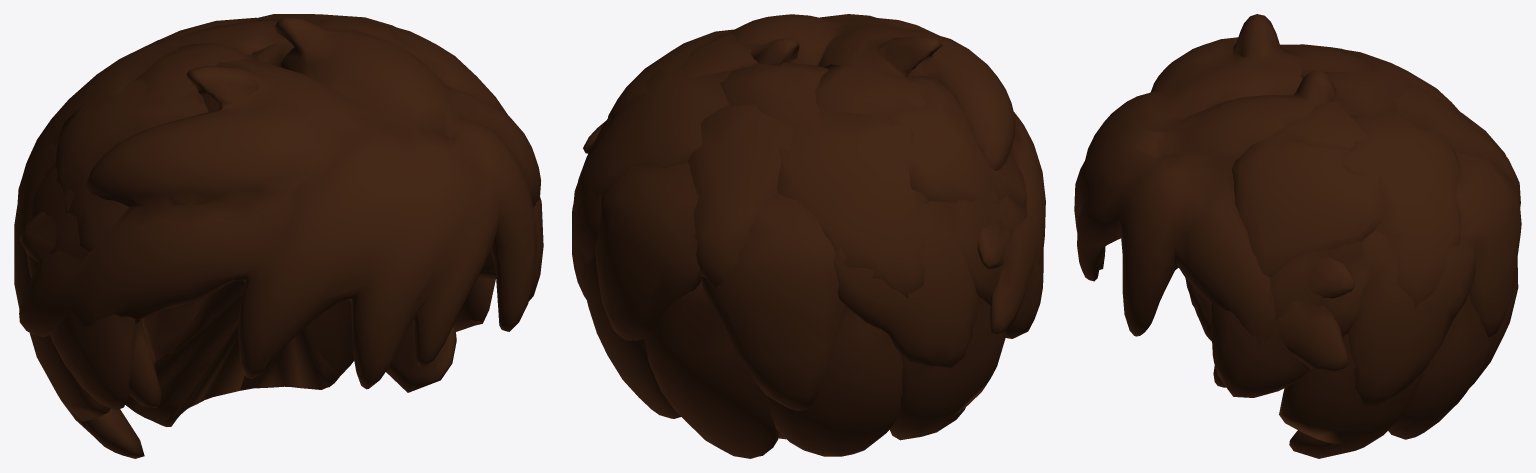
File: gjh-visitor-hair.glb
The picture shows the model from 3 angles, left to right: view 1: azimuth 30°, elevation 25°; view 2: azimuth 150°, elevation 25°; view 3: azimuth 270°, elevation 25°; orthographic projection. The views are drawn at different scales.
Parts seen in each view (by area): view 1: Hair_Module.003; view 2: Hair_Module.003; view 3: Hair_Module.003.
Part boxes in pixels (<box>): Hair_Module.003: <box>14,14,543,458</box>; Hair_Module.003: <box>572,14,1045,458</box>; Hair_Module.003: <box>1074,14,1521,458</box>.
Size of the model in its own units: 0.5989 by 0.503 by 0.5772.
